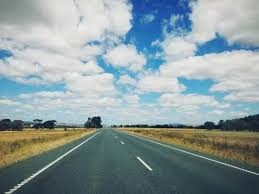strada: (2, 127, 256, 193)
